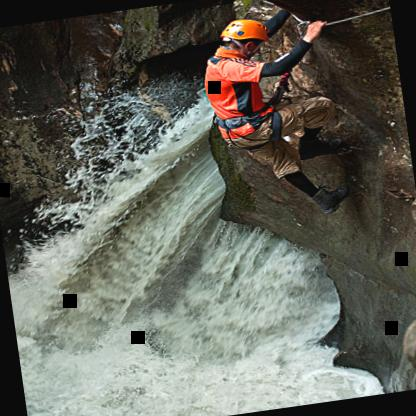helmet: (207, 9, 281, 66)
